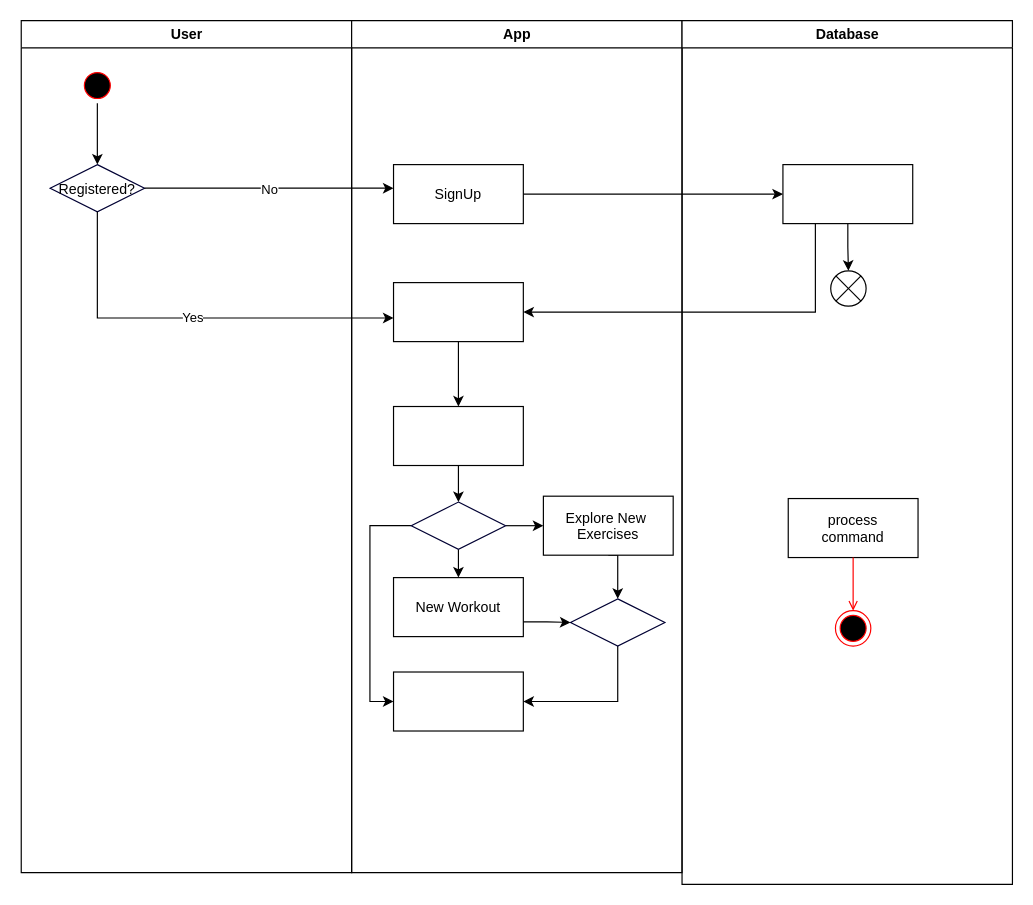
Some shapes in this 1033 by 905 pixel diagram are drawn without their labels. The centre of each missing label's shape, as x and y in pixels:
"Enter Details" goes at point 847,193.
"Home" goes at point 457,435.
"Navigation" goes at point 457,701.
"SignIn" goes at point 457,311.
